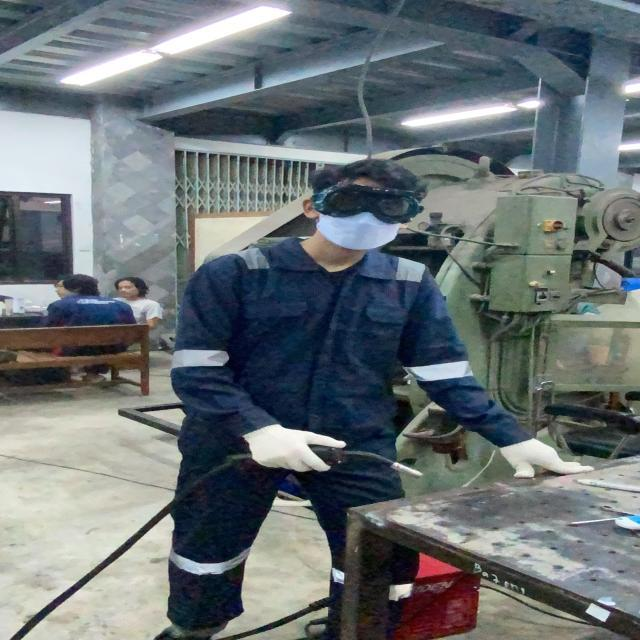glasses: (300, 178, 430, 226)
